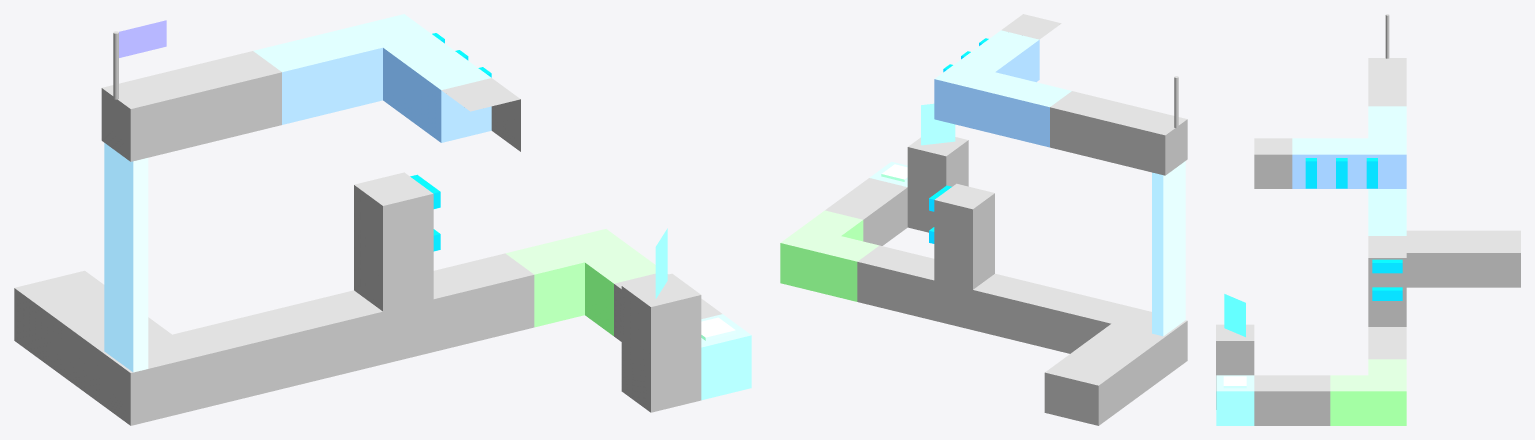
Rendered from level2.gltf.
The picture shows the model from 3 angles, left to right: view 1: azimuth 30°, elevation 25°; view 2: azimuth 150°, elevation 25°; view 3: azimuth 270°, elevation 25°; orthographic projection. The views are drawn at different scales.
Visible parts, largest first — view 1: Box_break, Box_1 (×2), Box_3, Box, Box_2 (×2), Boxbottom, Box_son, Box_Parent, Boxdad2, Box5, Boxson2, Box3 (+3 smaller); view 2: Box_2 (×2), Box_break, Box_1 (×2), Box_3, Box, Boxbottom, Box_son, Boxdad2, Box_Parent, Box4, Boxson2, Box3; view 3: Box_2 (×2), Box_son, Box4, Box_1 (×2), Boxdad2, Box, Boxson2, Box_3, Boxbottom, Box5, Box2, Box_Parent (+7 smaller).
Part boxes in pixels (<box>): Box_break: <box>101,290,382,425</box>; Box_1 (×2): <box>433,253,701,412</box>; Box_3: <box>101,51,281,161</box>; Box: <box>354,172,433,364</box>; Box_2 (×2): <box>14,228,667,404</box>; Boxbottom: <box>104,143,148,372</box>; Box_son: <box>354,14,491,142</box>; Box_Parent: <box>253,26,382,124</box>; Boxdad2: <box>505,229,634,327</box>; Box5: <box>701,314,751,400</box>; Boxson2: <box>585,250,655,335</box>; Box3: <box>441,78,520,111</box>; Box_2 (×2): <box>921,103,1165,425</box>; Box_break: <box>973,273,1187,376</box>; Box_1 (×2): <box>857,137,968,320</box>; Box_3: <box>1050,91,1187,175</box>; Box: <box>934,183,994,329</box>; Boxbottom: <box>1152,161,1185,336</box>; Box_son: <box>934,30,1039,128</box>; Boxdad2: <box>780,226,879,301</box>; Box_Parent: <box>973,72,1071,147</box>; Box4: <box>825,178,907,245</box>; Boxson2: <box>803,210,863,241</box>; Box3: <box>1001,14,1061,39</box>; Box_2 (×2): <box>1224,230,1520,337</box>; Box_son: <box>1292,138,1406,188</box>; Box4: <box>1254,375,1330,425</box>; Box_1 (×2): <box>1216,324,1406,409</box>; Boxdad2: <box>1368,359,1406,425</box>; Box: <box>1368,242,1406,326</box>; Boxson2: <box>1330,375,1368,425</box>; Box_3: <box>1368,58,1406,106</box>; Boxbottom: <box>1368,189,1406,235</box>; Box5: <box>1216,375,1254,425</box>; Box2: <box>1254,154,1292,188</box>; Box_Parent: <box>1368,106,1406,138</box>.
Bounding box in the file's own units: 10.05 × 7.25 × 8.
